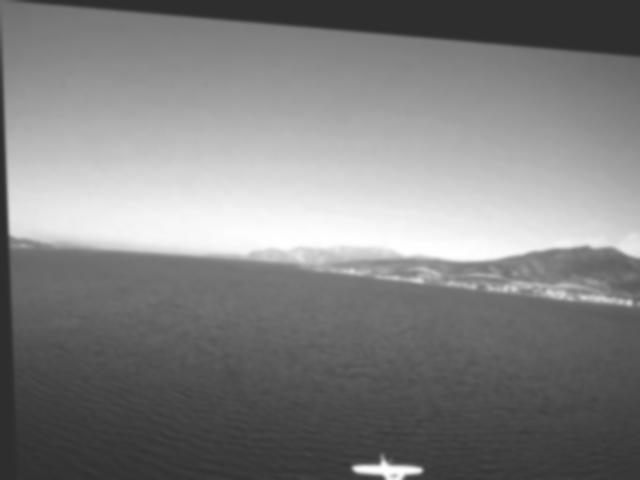hedef: (343, 440, 420, 480)
